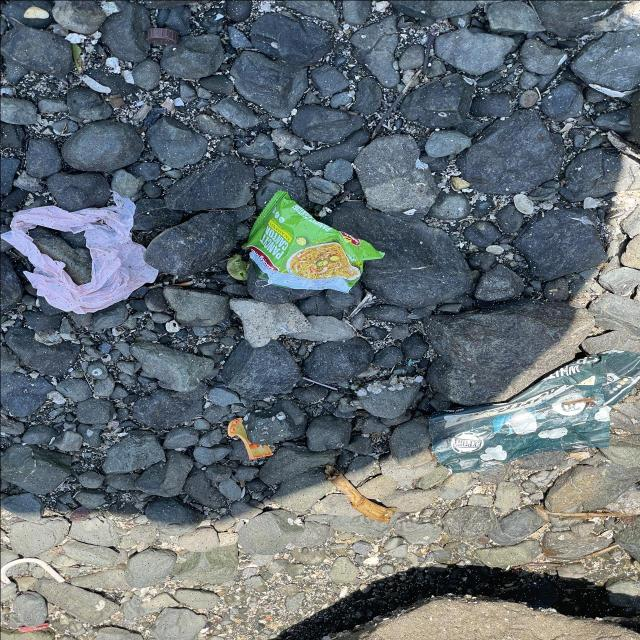plastic_waste: (427, 349, 640, 475), (245, 190, 388, 295)
